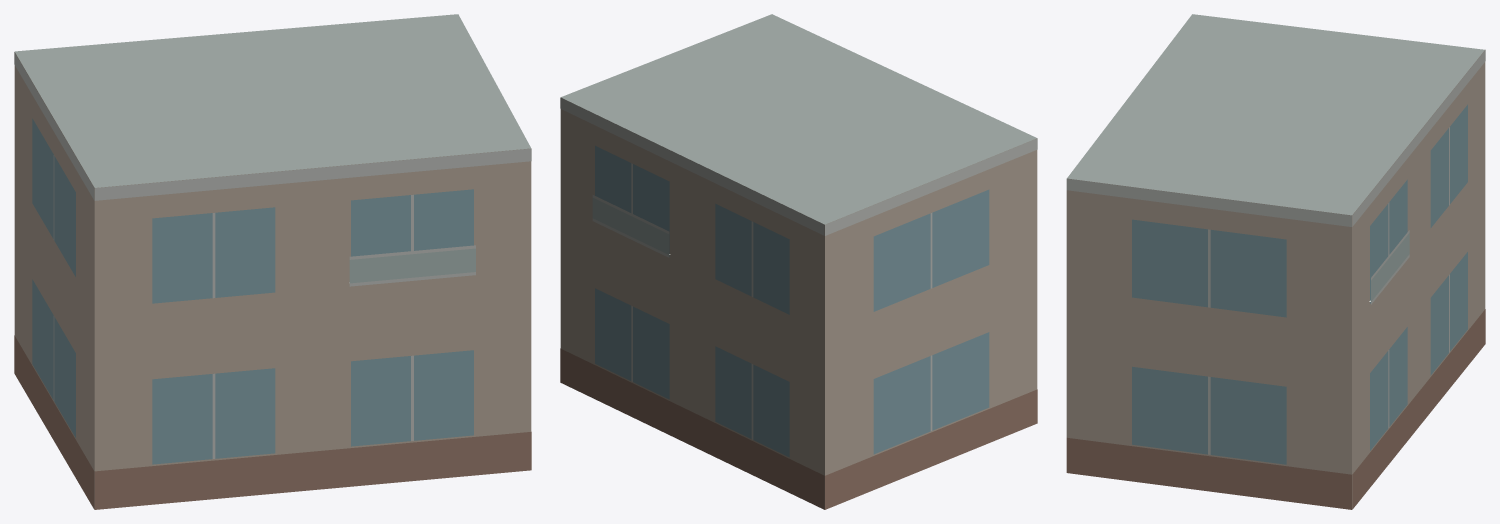
The model's file is survey-upis-32870596.glb.
The picture shows the model from 3 angles, left to right: view 1: azimuth 30°, elevation 25°; view 2: azimuth 150°, elevation 25°; view 3: azimuth 270°, elevation 25°; orthographic projection. The views are drawn at different scales.
Visible parts, largest first — view 1: survey-upis-32870596.tmp; view 2: survey-upis-32870596.tmp; view 3: survey-upis-32870596.tmp.
Boxes of the visible parts, x1,y1,x2,y2 form: survey-upis-32870596.tmp: [14, 14, 531, 509]; survey-upis-32870596.tmp: [560, 14, 1037, 509]; survey-upis-32870596.tmp: [1066, 14, 1485, 509].
Size of the model in its own units: 8.96 by 6.1 by 7.87.
